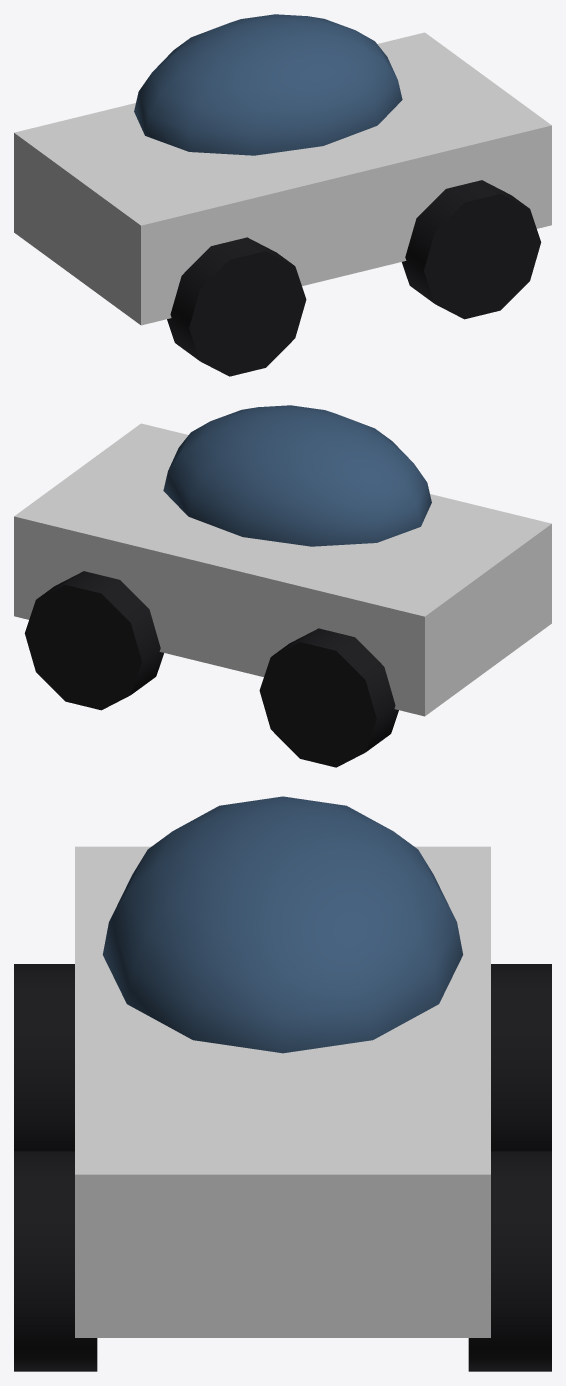
Rendered from car_2005.glb.
3 views of the same model, one above another, from view 1: azimuth 30°, elevation 25°; view 2: azimuth 150°, elevation 25°; view 3: azimuth 270°, elevation 25° (orthographic). The views are drawn at different scales.
Parts seen in each view (by area): view 1: Body, Cabin, car_w0_1, car_w1_1; view 2: Body, Cabin, car_w0_-1, car_w1_-1; view 3: Body, Cabin, car_w1_-1, car_w1_1, car_w0_-1, car_w0_1.
Boxes of the visible parts, <box> form: Body: <box>14,32,551,325</box>; Cabin: <box>134,14,402,155</box>; car_w0_1: <box>167,237,306,376</box>; car_w1_1: <box>402,180,541,319</box>; Body: <box>14,423,551,716</box>; Cabin: <box>163,405,431,546</box>; car_w0_-1: <box>259,628,398,767</box>; car_w1_-1: <box>24,571,163,710</box>; Body: <box>75,846,490,1337</box>; Cabin: <box>102,796,463,1053</box>; car_w1_-1: <box>468,1151,551,1371</box>; car_w1_1: <box>14,1151,97,1371</box>; car_w0_-1: <box>491,964,551,1151</box>; car_w0_1: <box>14,964,74,1151</box>.
Bounding box in the file's own units: 0.28 × 0.168 × 0.194.
